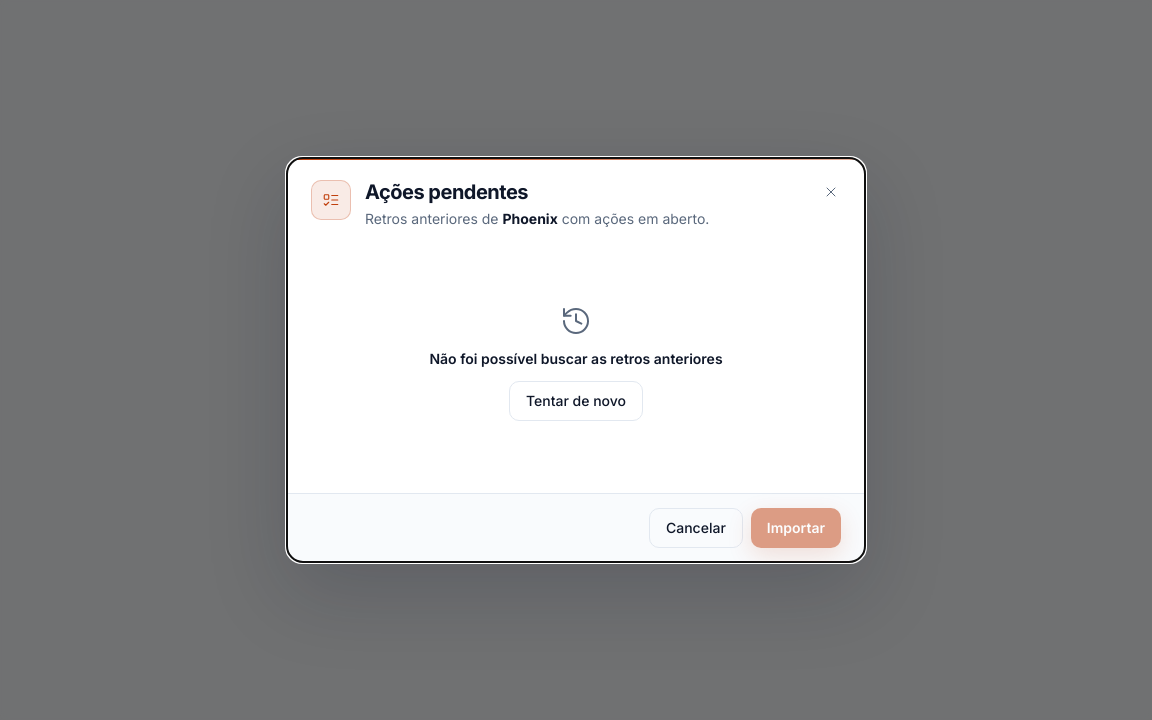
Test case: importar ações pendentes › falha de rede não é "nenhuma ação": avisa e deixa tentar de novo
Check: the text "Não foi possível buscar as retros anteriores" is shown, box [429,349,723,369]
What coordinates should you click on to do the following:
click the button "Tentar de novo"
I would click on:
 (576, 401)
Its box is [509,381,643,421].
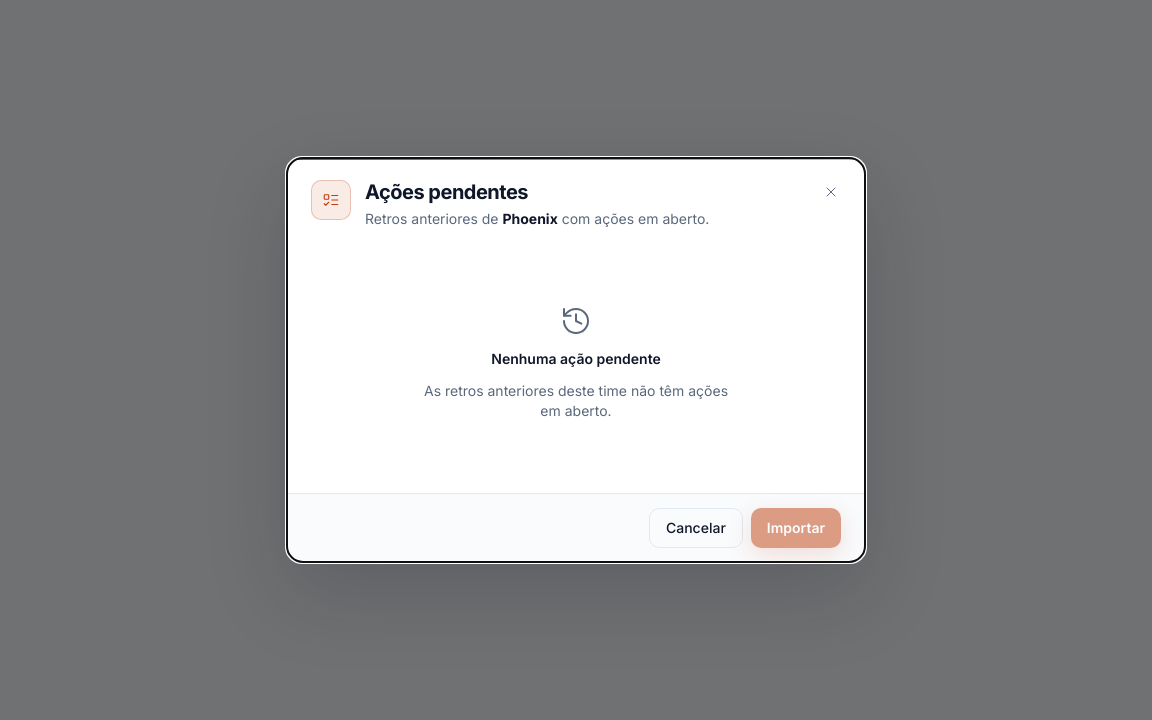
Check: the text "Nenhuma ação pendente" is shown, box [491,349,661,369]
